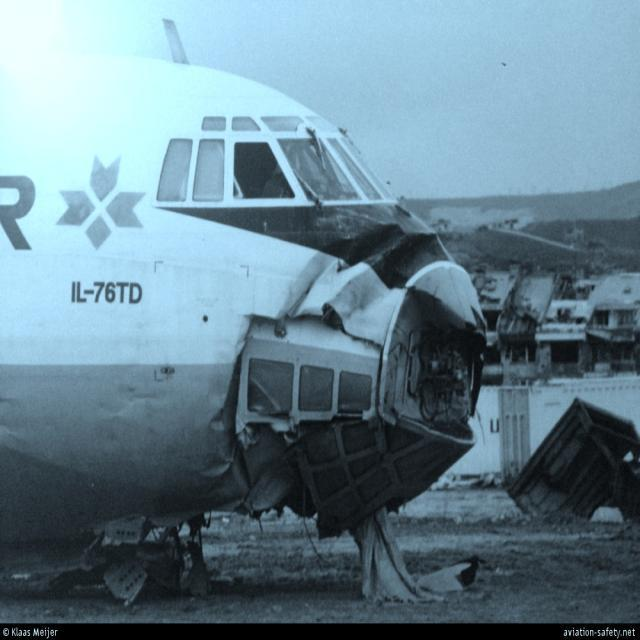dent: (197, 413, 227, 478)
